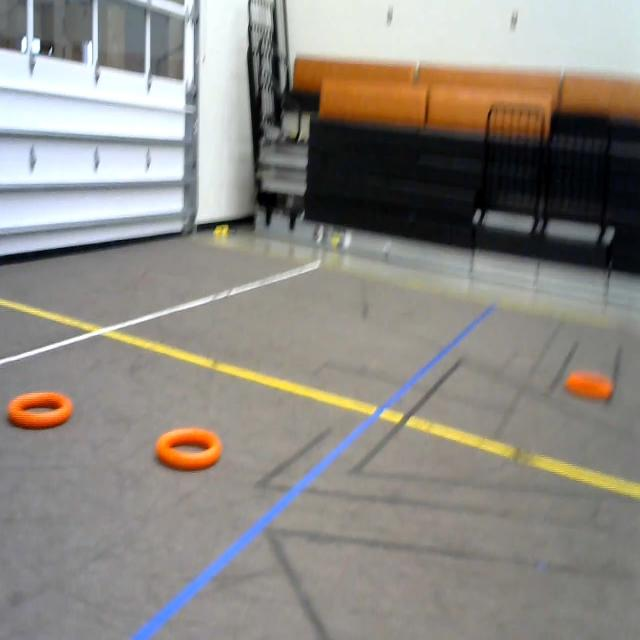note: (152, 417, 230, 488), (6, 384, 78, 434), (560, 366, 629, 414)
